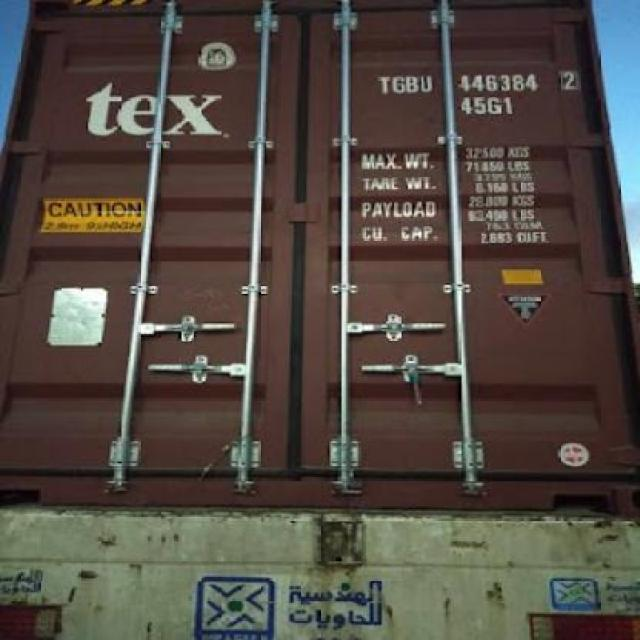ISO: (462, 95, 515, 116)
container_number: (382, 68, 572, 94)
